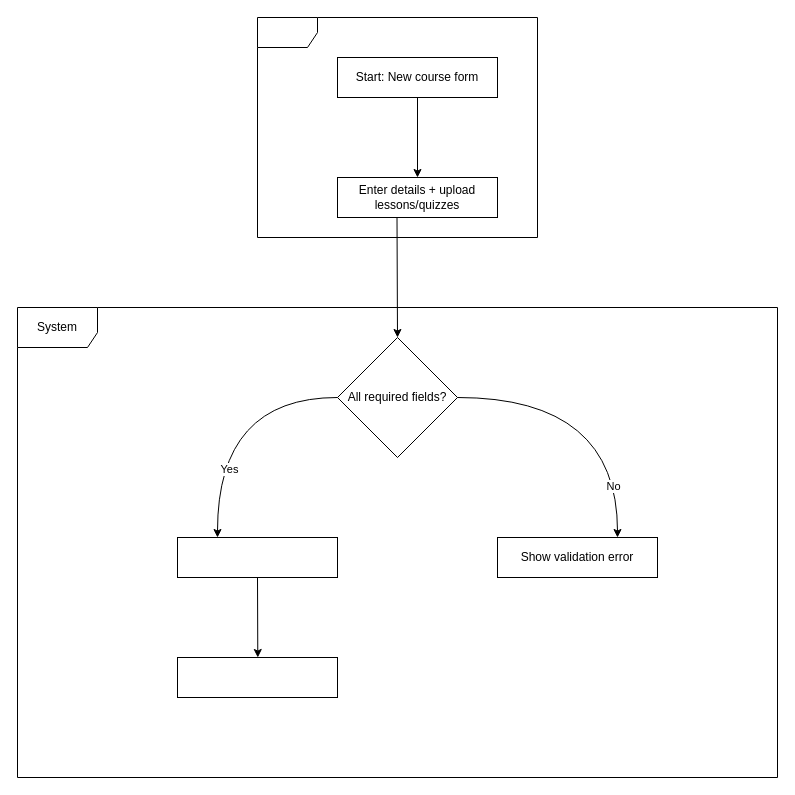
This 795x795 diagram has some shape labels left out. Here are the shapes that lost their labels. From the top down, the centre of each, then its label:
the point at 397,127: Instructor
the point at 257,557: Save as Draft
the point at 257,677: End
